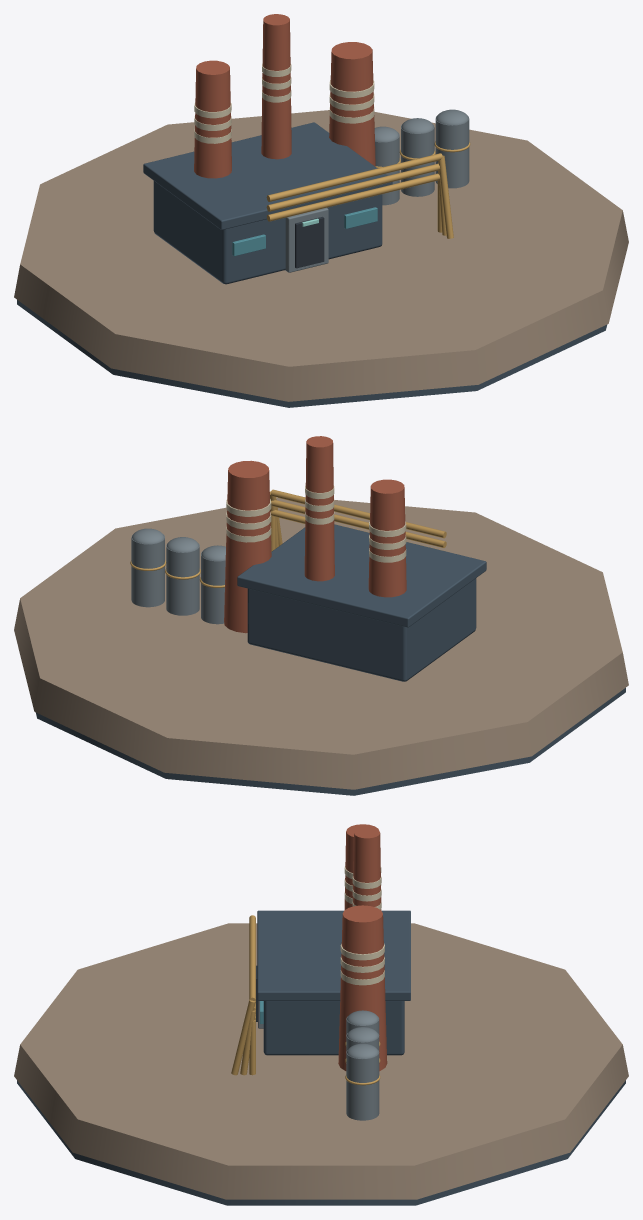
Rendered from saffron.glb.
The picture shows the model from 3 angles, top to bottom: view 1: azimuth 30°, elevation 25°; view 2: azimuth 150°, elevation 25°; view 3: azimuth 270°, elevation 25°; orthographic projection. The views are drawn at different scales.
Parts seen in each view (by area): view 1: Terrain cutaway, Roof slab, Heat chimney (×3), Habitat pressure shell, Storage vessel (×3), Transfer pipe (×3), Substrate, Sealed door, Airlock surround, Downcomer; view 2: Terrain cutaway, Habitat pressure shell, Heat chimney (×3), Roof slab, Storage vessel (×3), Substrate, Transfer pipe (×2); view 3: Terrain cutaway, Roof slab, Heat chimney (×3), Habitat pressure shell, Substrate, Storage vessel, Transfer pipe, Downcomer.
Part boxes in pixels (<box>): Terrain cutaway: <box>14,110,628,401</box>; Roof slab: <box>143,122,392,229</box>; Heat chimney (×3): <box>194,14,375,178</box>; Habitat pressure shell: <box>153,181,382,284</box>; Storage vessel (×3): <box>375,115,469,205</box>; Transfer pipe (×3): <box>266,153,442,221</box>; Substrate: <box>17,300,606,407</box>; Sealed door: <box>295,216,324,268</box>; Airlock surround: <box>285,207,328,272</box>; Downcomer: <box>438,155,453,238</box>; Terrain cutaway: <box>14,498,628,789</box>; Habitat pressure shell: <box>247,578,476,681</box>; Heat chimney (×3): <box>224,436,406,633</box>; Roof slab: <box>237,524,486,627</box>; Storage vessel (×3): <box>131,534,225,624</box>; Substrate: <box>35,688,625,795</box>; Transfer pipe (×2): <box>270,489,446,547</box>; Terrain cutaway: <box>14,923,628,1199</box>; Roof slab: <box>257,910,410,1000</box>; Heat chimney (×3): <box>338,824,387,1071</box>; Habitat pressure shell: <box>263,1001,404,1055</box>; Substrate: <box>17,1080,625,1205</box>; Storage vessel: <box>346,1050,379,1120</box>; Transfer pipe: <box>249,915,255,1001</box>; Downcomer: <box>231,1000,255,1075</box>.
Size of the model in its own units: 5.52 by 2.5 by 5.8.
